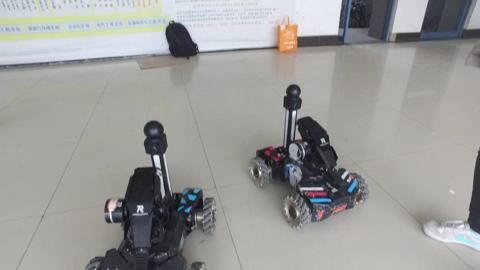bag: (155, 17, 204, 59), (269, 13, 305, 57)
chariot: (79, 117, 219, 270), (245, 82, 372, 234)
